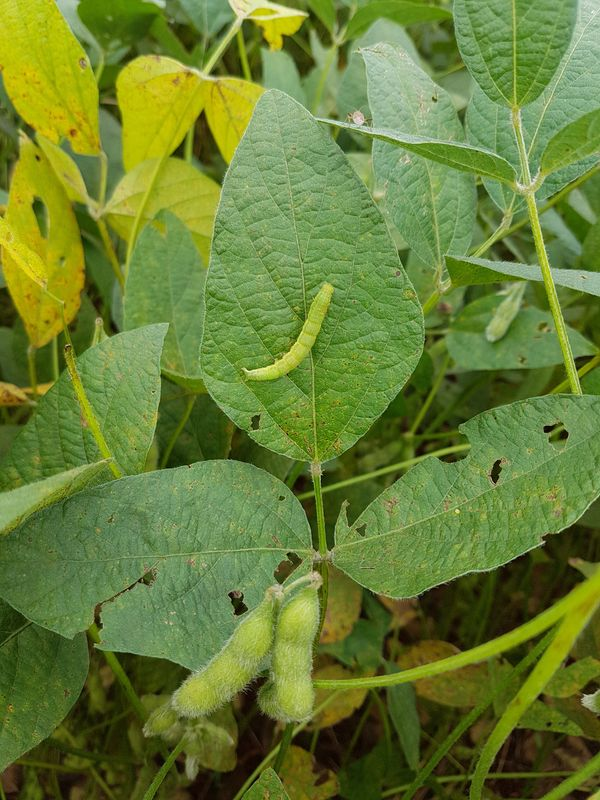Anticarsia_gemmatalis: (230, 273, 351, 392)
